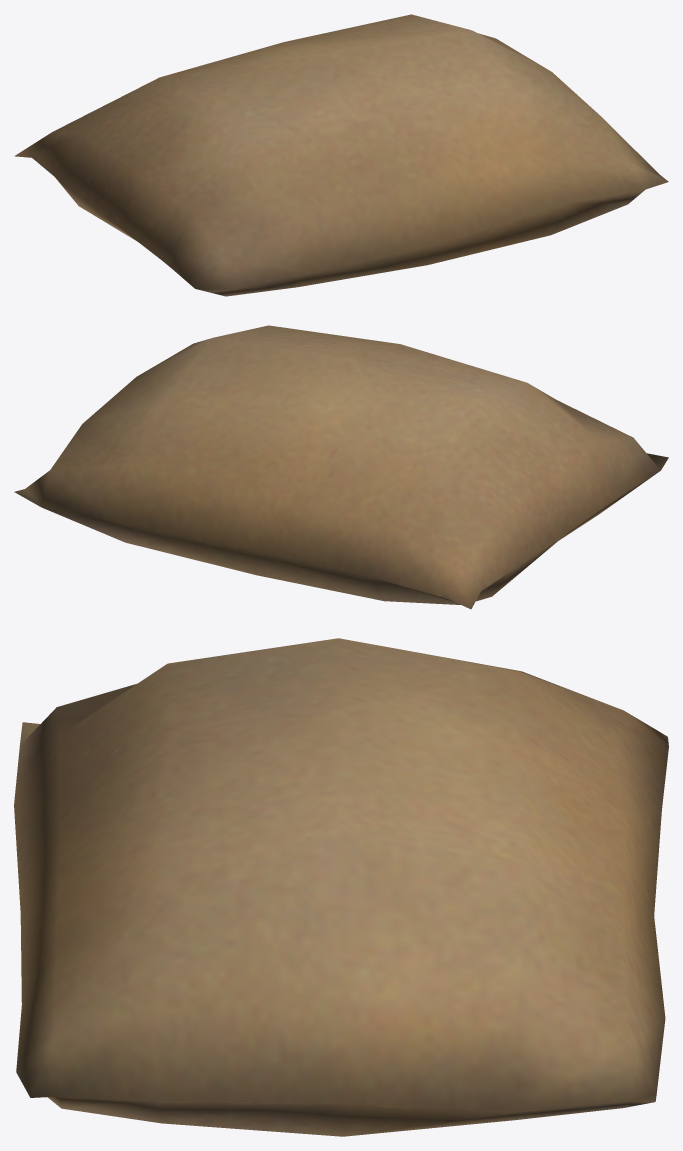
The model's file is sack_002.fbx.
3 renders of one model, top to bottom at view 1: azimuth 30°, elevation 25°; view 2: azimuth 150°, elevation 25°; view 3: azimuth 270°, elevation 25°, orthographic. The views are drawn at different scales.
Visible parts, largest first — view 1: sack.002; view 2: sack.002; view 3: sack.002.
Boxes of the visible parts, box(x1,y1,x2,y2) form: sack.002: box(14, 14, 668, 296); sack.002: box(14, 325, 668, 609); sack.002: box(14, 638, 668, 1136).
Bounding box in the file's own units: 86.38 × 29.55 × 63.9.
